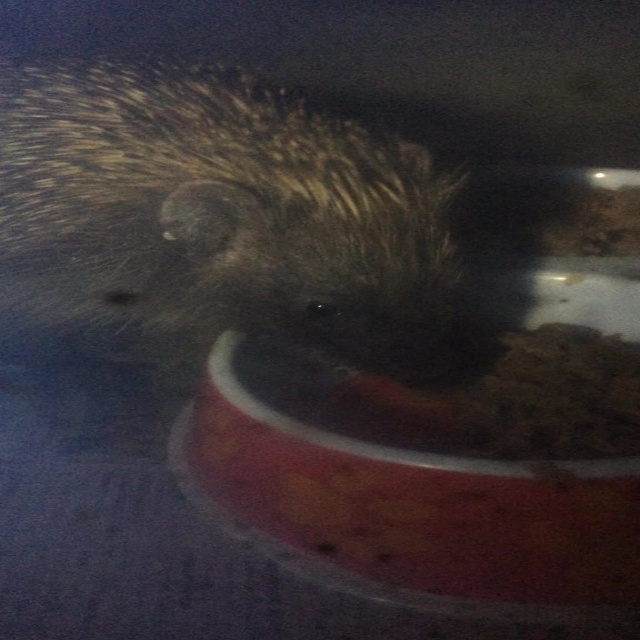Hedgehog: (0, 51, 484, 390)
